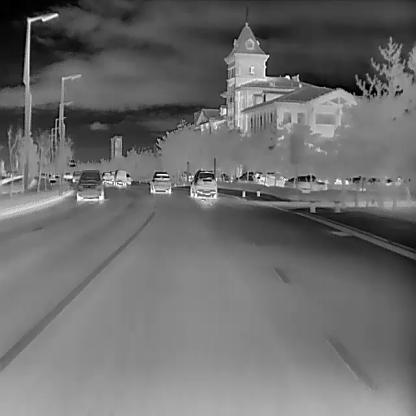car: (75, 168, 104, 202), (190, 169, 217, 197), (284, 174, 326, 187), (149, 170, 171, 192), (113, 169, 126, 185), (102, 170, 110, 183), (72, 170, 80, 181), (126, 172, 131, 184)
